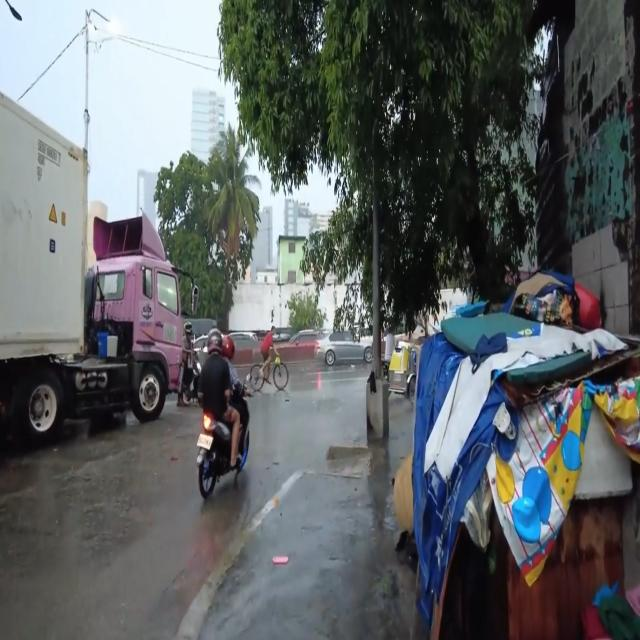full: (221, 332, 236, 362)
half: (207, 326, 223, 354)
